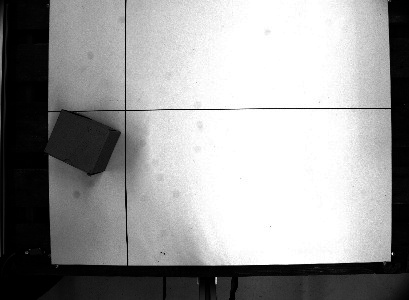b5: (40, 108, 123, 179)
